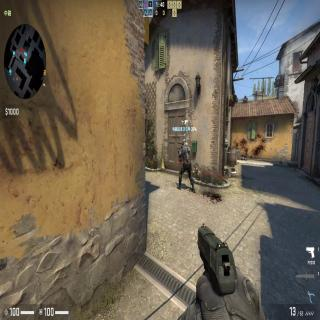CT-Body: (176, 140, 195, 193)
CT-Head: (182, 140, 187, 146)
